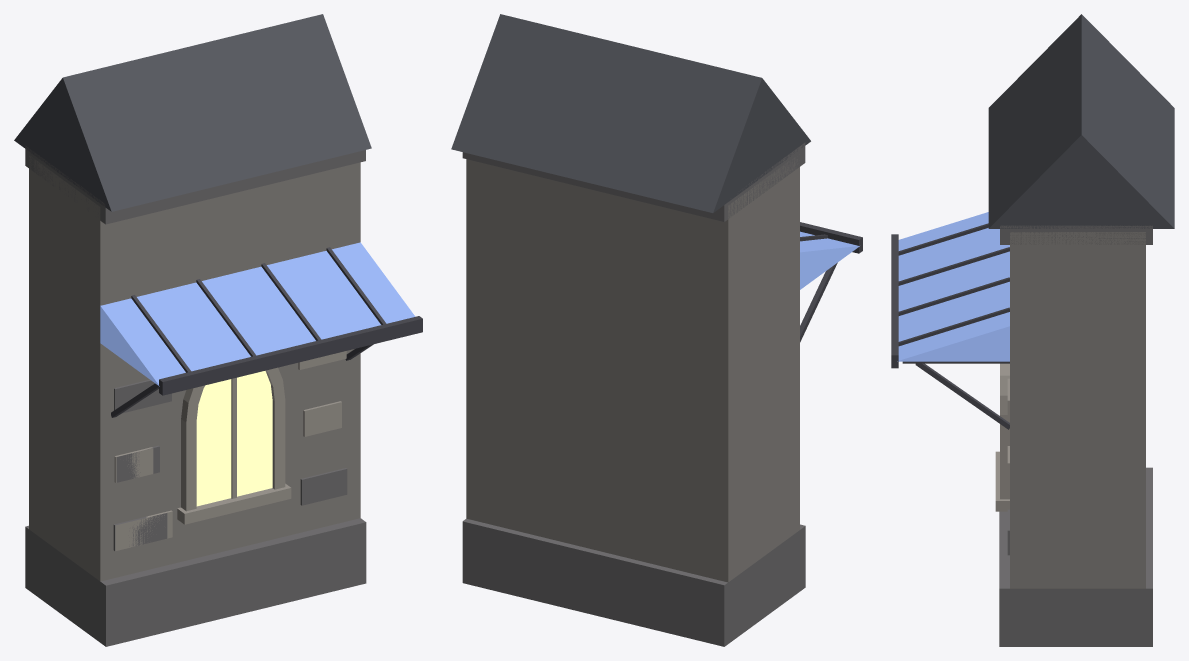
File: station_wall.glb
The picture shows the model from 3 angles, left to right: view 1: azimuth 30°, elevation 25°; view 2: azimuth 150°, elevation 25°; view 3: azimuth 270°, elevation 25°; orthographic projection. The views are drawn at different scales.
Visible parts, largest first — view 1: Upper, Plinth; view 2: Upper, Plinth; view 3: Upper, Plinth.
Part boxes in pixels (bbox=[...]): Upper: bbox=[14, 14, 422, 581]; Plinth: bbox=[25, 518, 366, 646]; Upper: bbox=[451, 14, 862, 582]; Plinth: bbox=[462, 518, 805, 646]; Upper: bbox=[891, 14, 1174, 588]; Plinth: bbox=[999, 467, 1152, 646].
Size of the model in its own units: 4 by 7.9 by 3.96.
